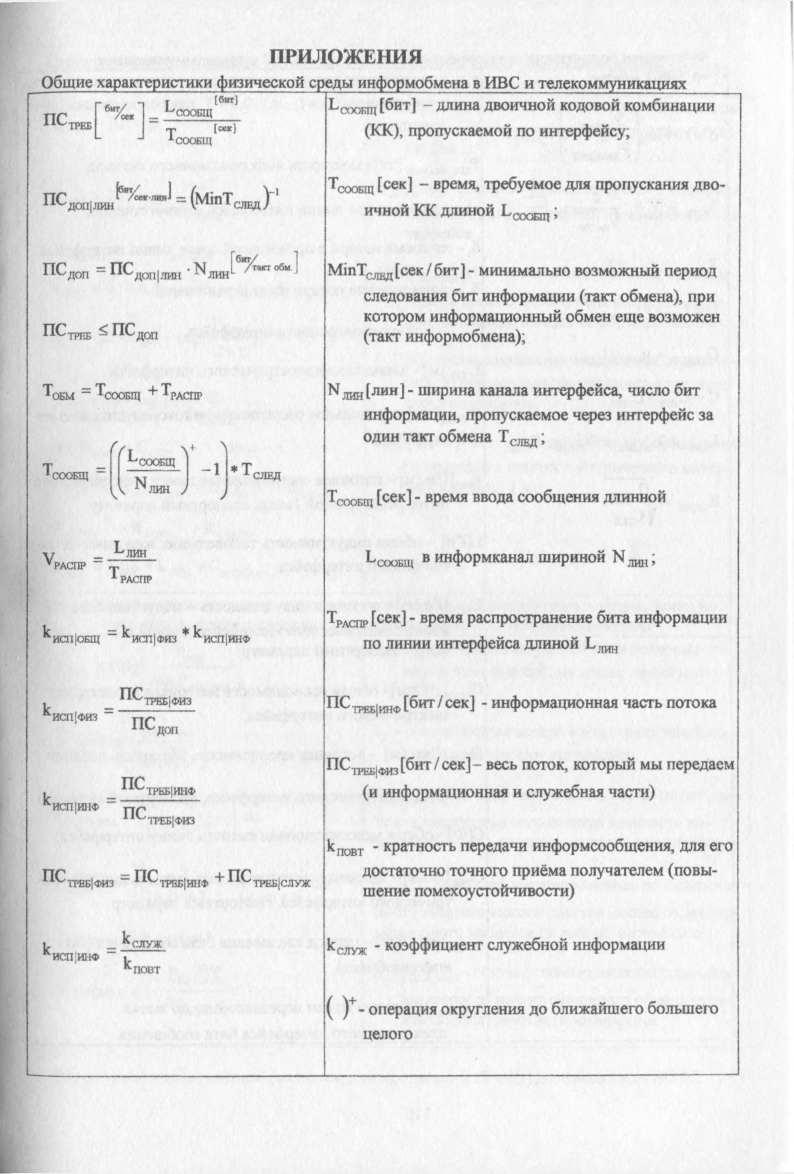K.исп.инф: (39, 784, 103, 816), (41, 936, 101, 964), (190, 622, 254, 645)
K.исп.общ: (32, 621, 99, 649)
K.исп.физ: (34, 698, 101, 728), (119, 621, 177, 645)
K.повт: (118, 953, 163, 976)
K.служ: (120, 926, 165, 948)
L.лин: (108, 540, 152, 557)
L.сообщ: (123, 446, 177, 467), (163, 94, 211, 117)
N.лин: (192, 256, 230, 284), (134, 474, 171, 495)
T.обм: (38, 376, 77, 404)
T.распр: (159, 376, 204, 402), (103, 564, 154, 584)
T.след: (224, 183, 262, 215), (240, 458, 282, 482)
T.сообщ: (42, 456, 94, 487), (91, 376, 144, 405), (164, 123, 213, 144)
V.распр: (39, 546, 85, 571)
group: (35, 248, 301, 288), (36, 178, 282, 215), (35, 371, 210, 408)
ПС.доп: (41, 255, 92, 284), (123, 713, 179, 737)
ПС.доп.лин: (109, 251, 181, 285), (40, 186, 114, 211)
ПС.треб: (41, 107, 92, 134)
ПС.треб.инф: (133, 866, 213, 894), (123, 769, 196, 797)
ПС.треб.служ: (229, 864, 311, 891)
ПС.треб.физ: (39, 867, 115, 895), (118, 682, 192, 708), (123, 806, 197, 823)
